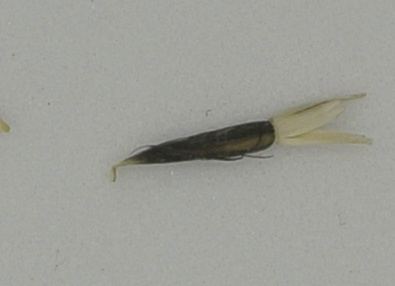เมล้ดปลายพู่กัน: (105, 91, 375, 183)
